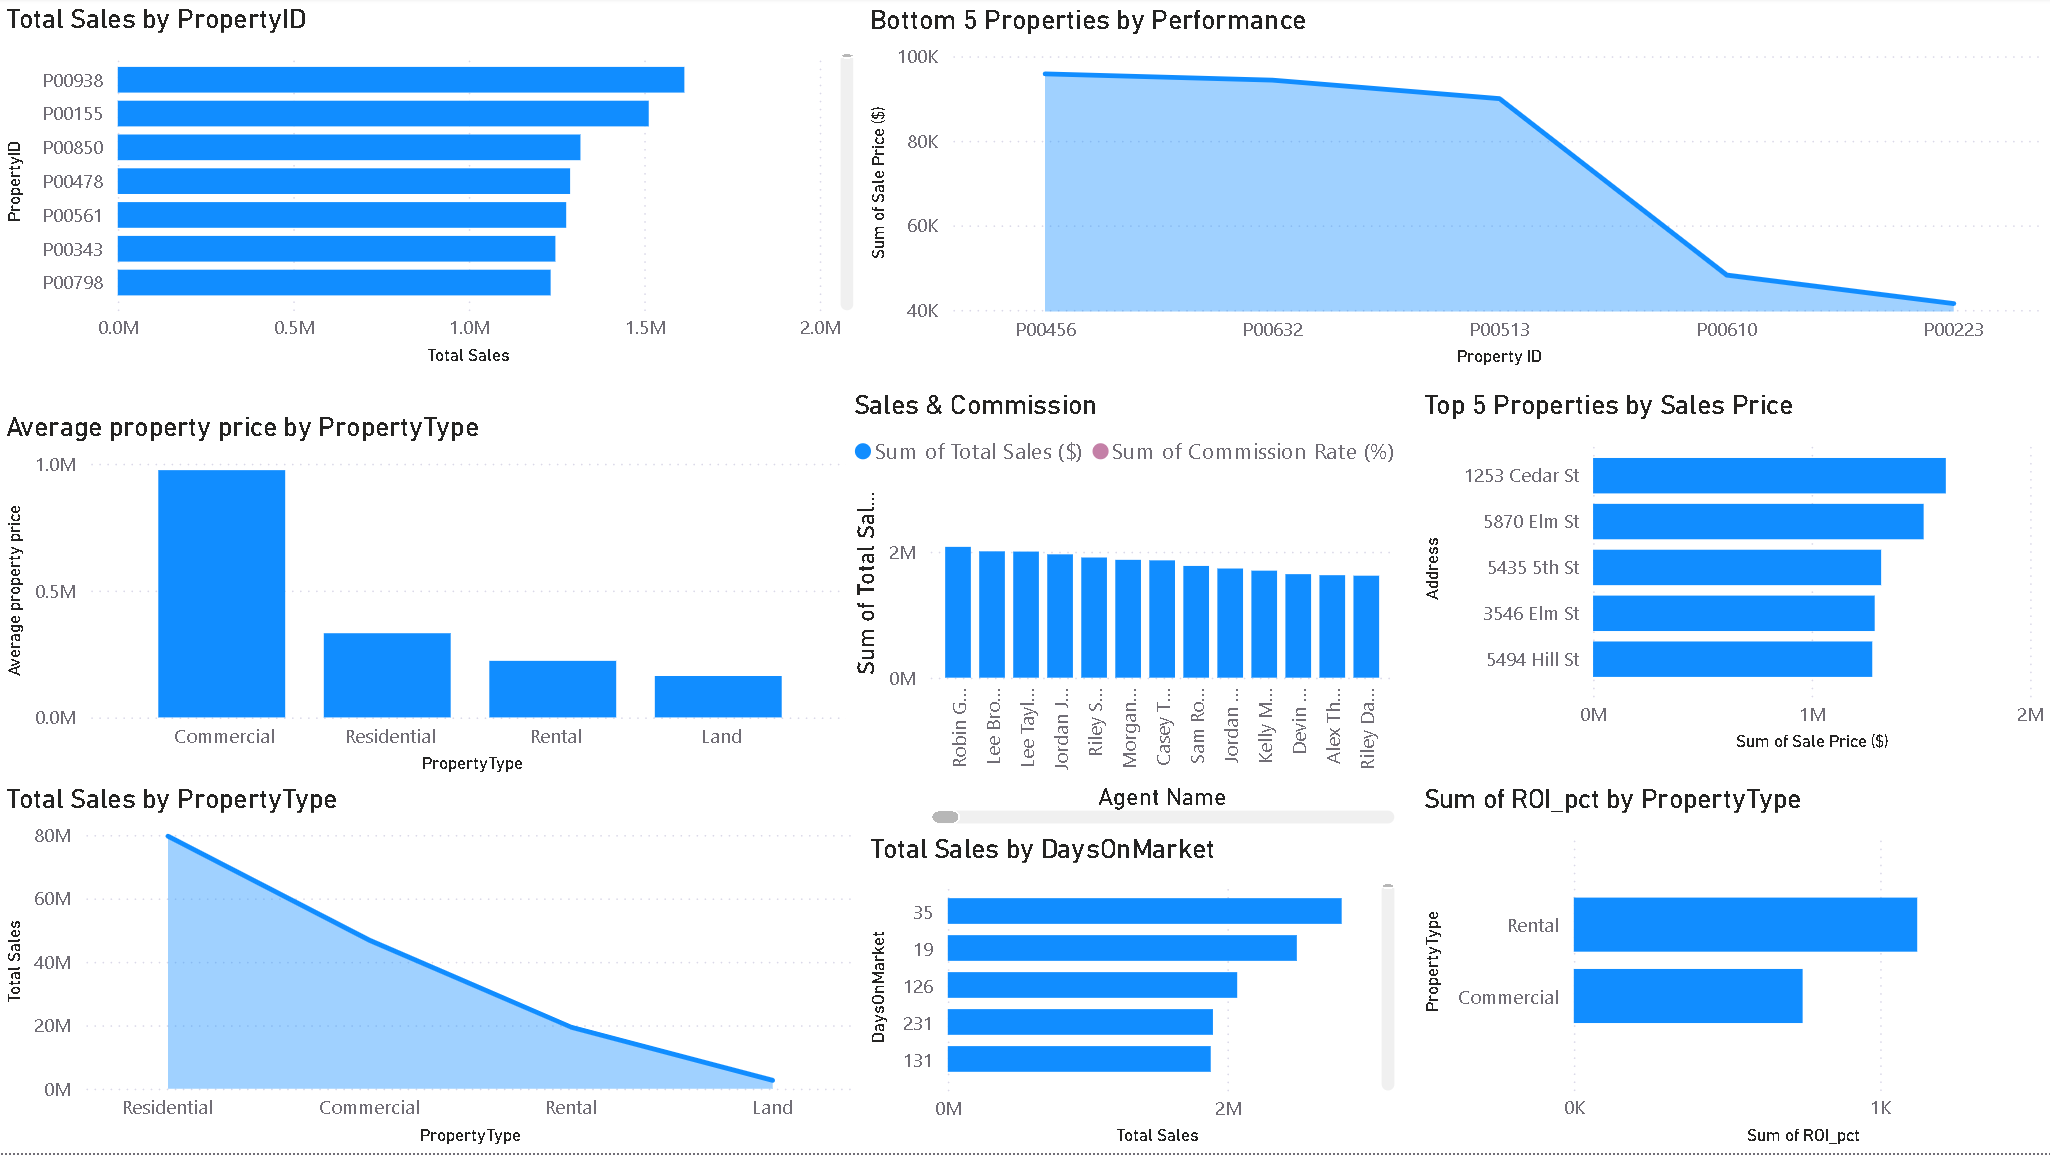

The page's visual inventory and layout, read from the dashboard file:
{"tool":"powerbi","page":{"name":"Charts & Visualization","canvas":[1280,720],"ordinal":0},"visuals":[{"type":"areaChart","fields":{"Category":["real_estate.PropertyType"],"Y":["real_estate.Total Sales"]},"box":[0,489,538,231],"z":0},{"type":"clusteredColumnChart","fields":{"Y":["real_estate.Average property price"],"Category":["real_estate.PropertyType"]},"box":[0,258,538,231],"z":1000},{"type":"barChart","fields":{"Category":["real_estate.PropertyID"],"Y":["real_estate.Total Sales"]},"box":[0,3.5,538,231],"z":2000},{"type":"barChart","title":"Top 5 Properties by Sales Price","fields":{"Y":["Sum(TOP 5 PROPERTIES — Highest Sale Price (Top & Bottom Properties).Sale Price ($))"],"Category":["TOP 5 PROPERTIES — Highest Sale Price (Top & Bottom Properties).Address"]},"box":[883,244,397,231],"z":3000},{"type":"areaChart","title":"Bottom 5 Properties by Performance","fields":{"Category":["BOTTOM 5 PROPERTIES — Lowest Sale Price (Top & Bottom Properties).Property ID"],"Y":["Sum(BOTTOM 5 PROPERTIES — Lowest Sale Price (Top & Bottom Properties).Sale Price ($))"]},"box":[538,4,742,231],"z":4000},{"type":"clusteredBarChart","fields":{"Category":["real_estate.PropertyType"],"Y":["Sum(real_estate.ROI_pct)"]},"box":[883,489,397,231],"z":5000},{"type":"columnChart","title":"Sales & Commission","fields":{"Category":["AGENT PERFORMANCE — SALES & COMMISSION (Agent Performance).Agent Name"],"Y":["Sum(AGENT PERFORMANCE — SALES & COMMISSION (Agent Performance).Total Sales ($))","Sum(AGENT PERFORMANCE — SALES & COMMISSION (Agent Performance).Commission Rate (%))"]},"box":[528,244,347,276],"z":6000},{"type":"barChart","fields":{"Category":["real_estate.DaysOnMarket"],"Y":["real_estate.Total Sales"]},"box":[538,520,337,200],"z":7000}]}

Visuals, with their boxes in screenshot pixels (x1, y1, x2, y2), scaled from the page's 1280x720 canvas onto the 2050x1155 screenshot:
areaChart - real_estate.PropertyType x real_estate.Total Sales: (0, 784, 862, 1154)
clusteredColumnChart - real_estate.Average property price x real_estate.PropertyType: (0, 414, 862, 784)
barChart - real_estate.PropertyID x real_estate.Total Sales: (0, 6, 862, 376)
"Top 5 Properties by Sales Price" barChart: (1414, 391, 2049, 762)
"Bottom 5 Properties by Performance" areaChart: (862, 6, 2049, 377)
clusteredBarChart - real_estate.PropertyType x Sum(real_estate.ROI_pct): (1414, 784, 2049, 1154)
"Sales & Commission" columnChart: (846, 391, 1401, 834)
barChart - real_estate.DaysOnMarket x real_estate.Total Sales: (862, 834, 1401, 1154)
